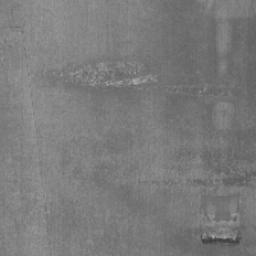Rolled pit: (47, 59, 239, 102), (201, 193, 240, 242), (184, 171, 256, 187)
